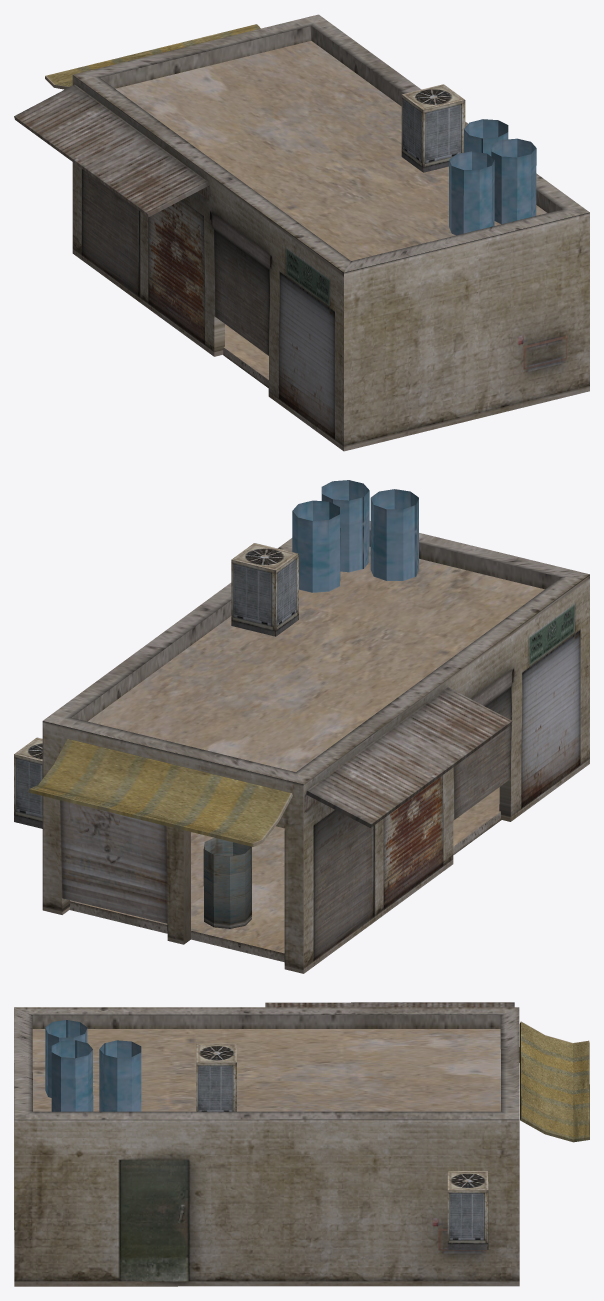
The model's file is building06.fbx.
The picture shows the model from 3 angles, top to bottom: view 1: azimuth 30°, elevation 25°; view 2: azimuth 150°, elevation 25°; view 3: azimuth 270°, elevation 25°; orthographic projection. The views are drawn at different scales.
Visible parts, largest first — view 1: polySurface1; view 2: polySurface1; view 3: polySurface1.
Boxes of the visible parts, x1,y1,x2,y2 form: polySurface1: (14, 14, 589, 451); polySurface1: (14, 480, 589, 973); polySurface1: (14, 1002, 589, 1286).
Bounding box in the file's own units: 660 × 418 × 1004.
